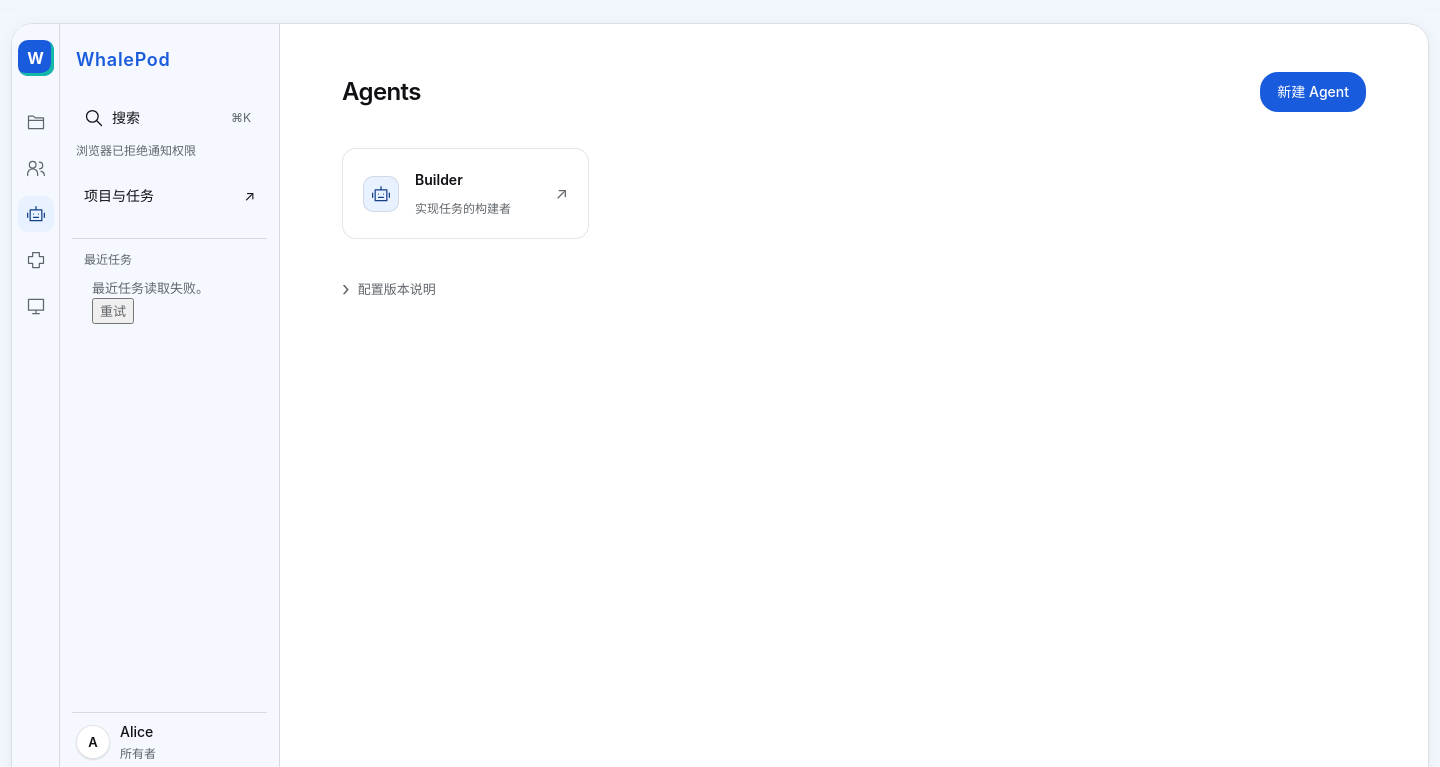
agent-settings › Plugin Pack 下拉：选项来自 GET /plugin-packs，未选时提交禁用
This screenshot has width=1440, height=767.
Step 1. Click the button "新建 Agent" → (1313,92), box [1260,72,1366,112]
(page scrolled)
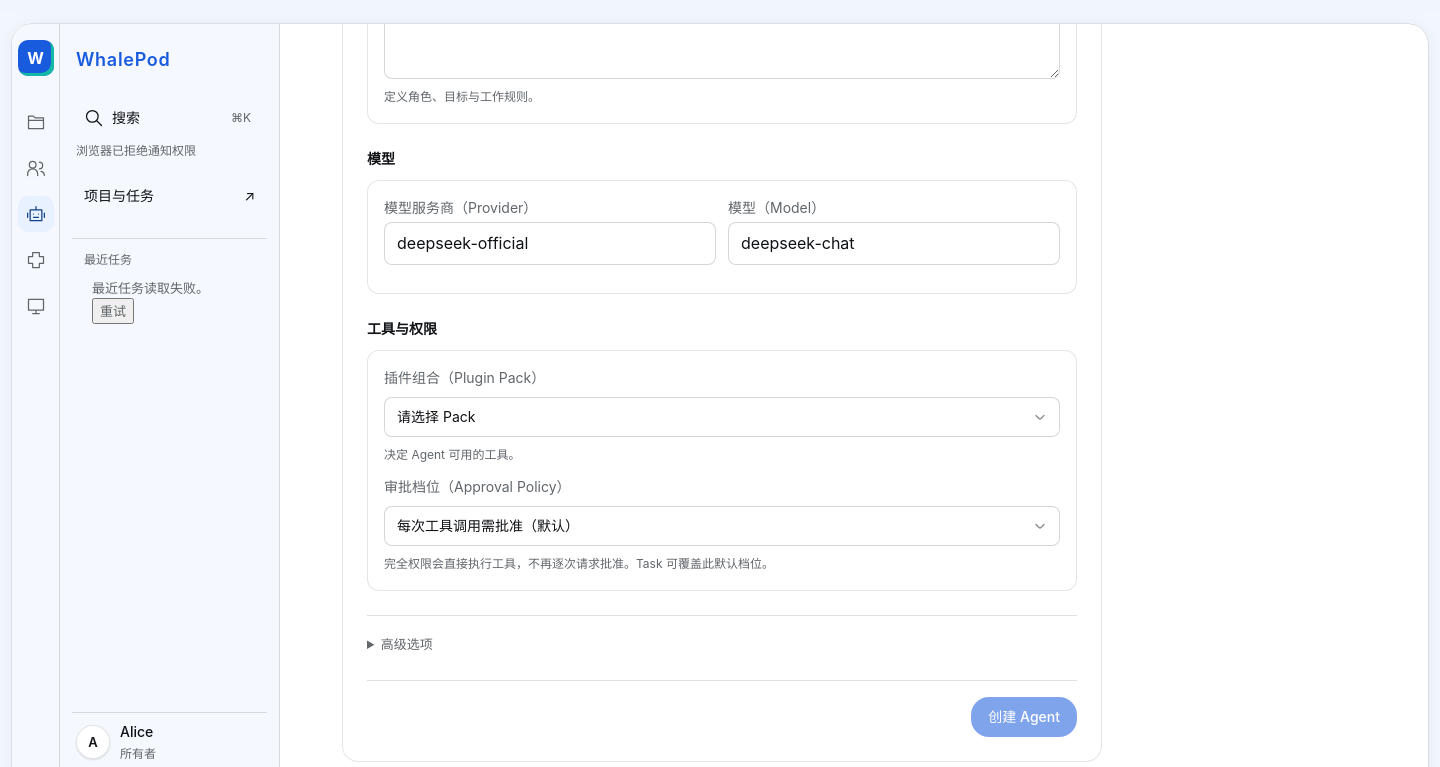
Step 2. Click the button named "插件组合（Plugin Pack）" → (436,416), box [384,397,1060,437]
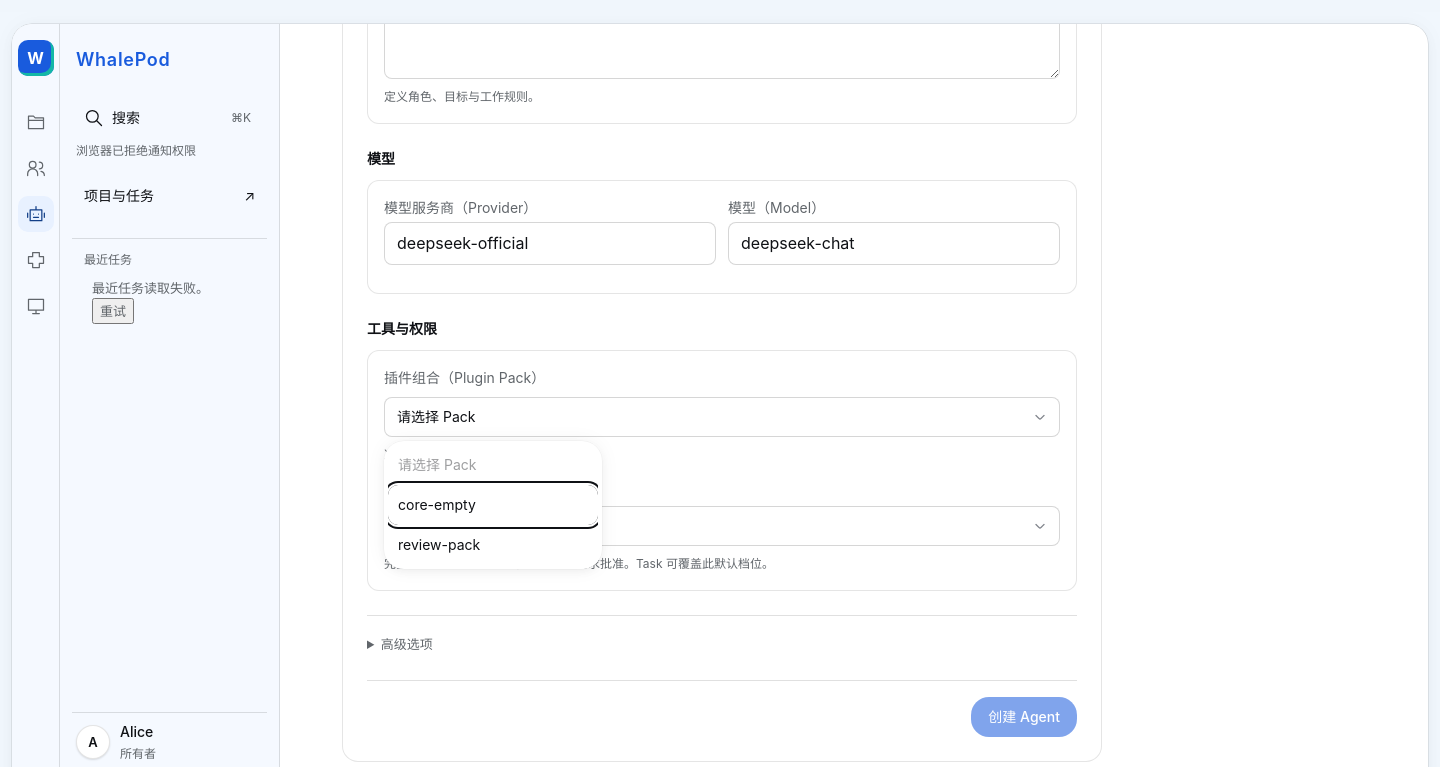
expect the button "创建 Agent" is disabled: met, box [971,697,1077,737]
expect the menu item "core-empty" is shown: met, box [388,485,598,525]
Step 3. Click the menu item "review-pack" → (493,545), box [388,525,598,565]
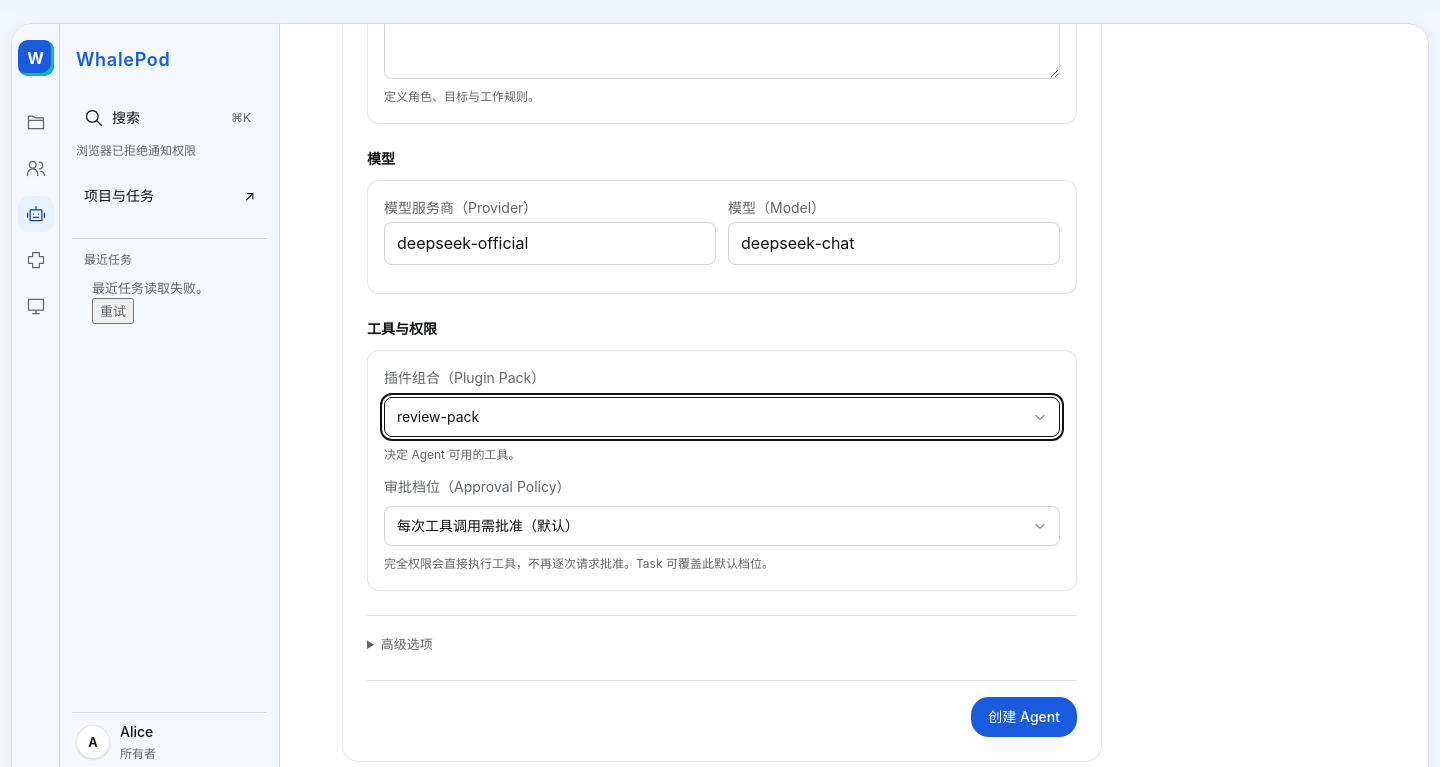
expect the menu is gone: met
expect the button named "插件组合（Plugin Pack）" reads "review-pack": met, box [384,397,1060,437]
expect the button named "插件组合（Plugin Pack）" is collapsed: met, box [384,397,1060,437]
